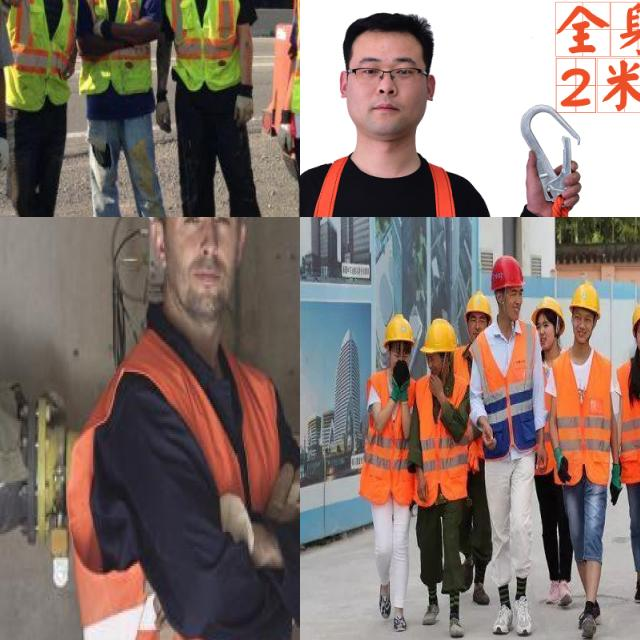No_Ear-Protection: (147, 221, 166, 274), (240, 223, 248, 273)
No_Glasses: (164, 217, 241, 258)
face_nomask: (174, 238, 239, 316)
hand_glove: (275, 108, 299, 162), (236, 82, 256, 132), (391, 361, 414, 403), (152, 93, 174, 134), (0, 132, 16, 185), (607, 462, 625, 506), (554, 445, 572, 487)
hand_noglove: (481, 414, 499, 456), (534, 433, 550, 475), (428, 375, 448, 408)
head_helmet: (417, 318, 458, 354), (491, 255, 525, 288), (569, 282, 601, 316), (382, 313, 414, 346), (531, 298, 564, 328), (463, 296, 492, 320), (631, 303, 640, 330)
person: (477, 253, 545, 638), (164, 0, 263, 217), (556, 279, 614, 630), (85, 0, 167, 217), (414, 321, 470, 636), (376, 299, 421, 628), (13, 0, 80, 217), (529, 297, 574, 600), (621, 291, 640, 610), (461, 291, 489, 349)
shoes: (512, 596, 535, 638), (490, 602, 516, 638), (575, 607, 598, 640), (443, 606, 466, 639), (420, 598, 442, 630), (377, 578, 391, 620), (391, 607, 409, 633), (629, 572, 640, 606)
vest: (554, 352, 618, 478), (478, 331, 545, 447), (7, 0, 80, 106), (363, 375, 417, 505), (84, 0, 156, 97), (170, 0, 243, 89), (412, 380, 468, 495), (619, 360, 640, 472), (538, 350, 558, 466)
